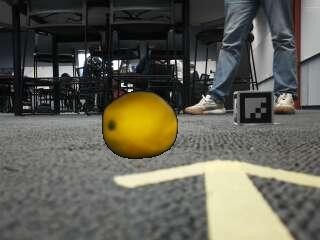lemon: (103, 93, 176, 159)
